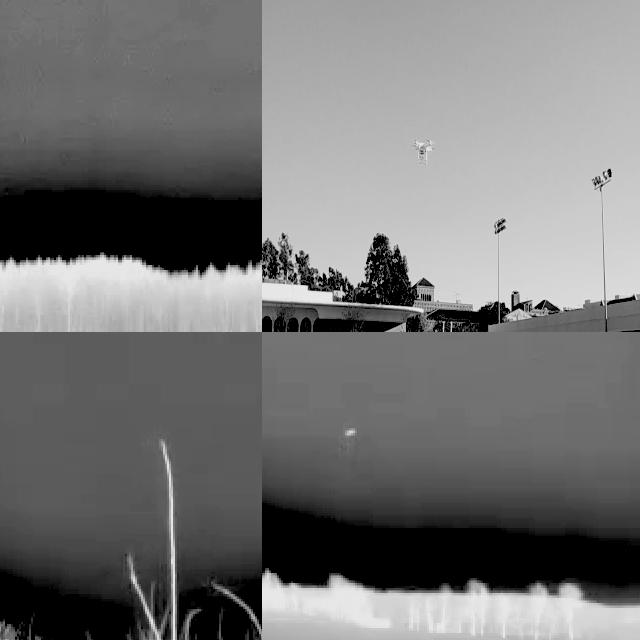1: (332, 418, 368, 458)
drone: (411, 134, 437, 166)
